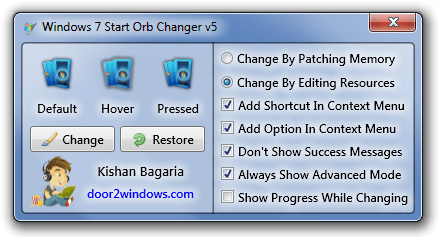close: (369, 13, 416, 32)
